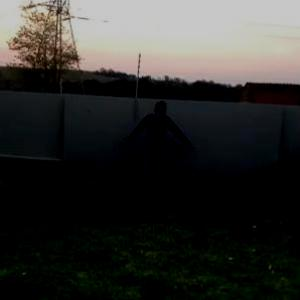land: (118, 96, 196, 205)
